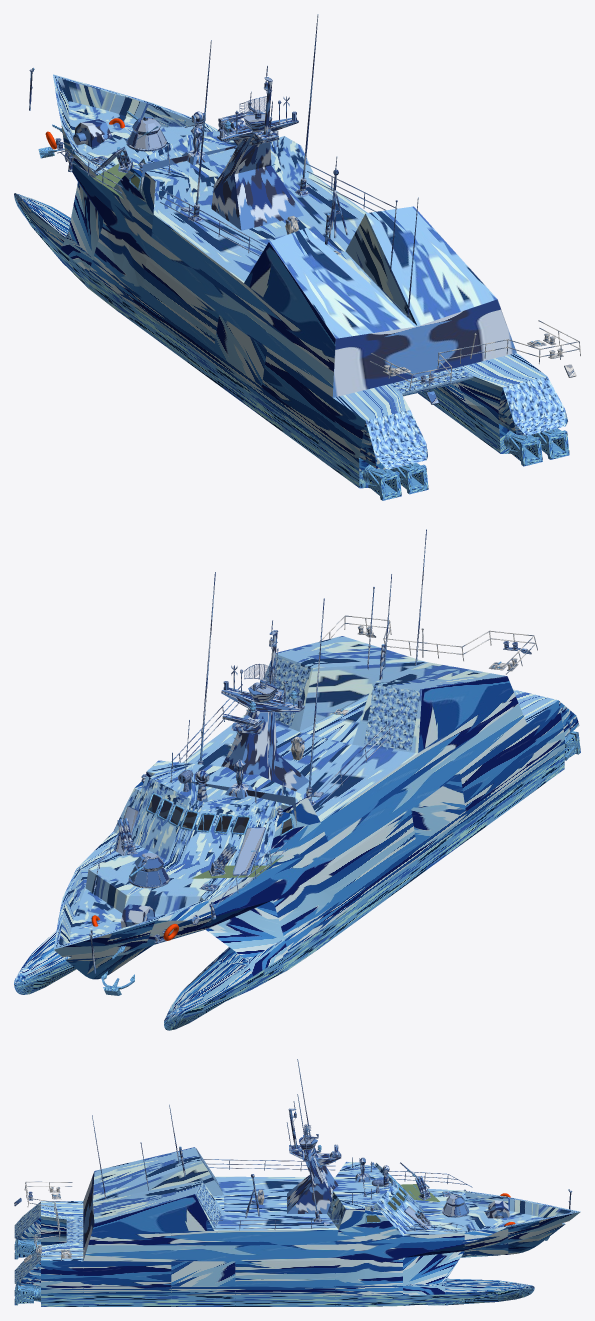
Rendered from type_22_missile_boat.fbx.
The picture shows the model from 3 angles, top to bottom: view 1: azimuth 30°, elevation 25°; view 2: azimuth 150°, elevation 25°; view 3: azimuth 270°, elevation 25°; orthographic projection. The views are drawn at different scales.
Visible parts, largest first — view 1: Object_47, Object_48, Object_50, Object_51, Object_42, Object_39, Object_17, Object_49, Object_29, Object_28, Object_35, Object_30 (+1 smaller); view 2: Object_48, Object_47, Object_51, Object_42, Object_17, Object_6, Object_35, Object_28, Object_29, Object_22, Object_49, Object_30 (+1 smaller); view 3: Object_49, Object_47, Object_51, Object_42, Object_17, Object_48, Object_30, Object_28, Object_39, Object_29, Object_35, Object_50 (+2 smaller).
Boxes of the visible parts, x1=… form: Object_47: x1=53, y1=74, x2=565, y2=469; Object_48: x1=14, y1=126, x2=434, y2=470; Object_50: x1=332, y1=299, x2=516, y2=397; Object_51: x1=14, y1=196, x2=526, y2=488; Object_42: x1=211, y1=111, x2=303, y2=230; Object_39: x1=363, y1=428, x2=569, y2=500; Object_17: x1=139, y1=14, x2=418, y2=317; Object_49: x1=426, y1=376, x2=567, y2=436; Object_29: x1=333, y1=250, x2=580, y2=389; Object_28: x1=55, y1=119, x2=438, y2=404; Object_35: x1=116, y1=116, x2=220, y2=172; Object_30: x1=29, y1=67, x2=397, y2=256; Object_48: x1=54, y1=676, x2=579, y2=1020; Object_47: x1=53, y1=636, x2=557, y2=959; Object_51: x1=14, y1=752, x2=564, y2=1030; Object_42: x1=221, y1=682, x2=309, y2=791; Object_17: x1=141, y1=529, x2=426, y2=817; Object_6: x1=150, y1=775, x2=296, y2=875; Object_35: x1=117, y1=818, x2=236, y2=888; Object_28: x1=93, y1=641, x2=531, y2=943; Object_29: x1=320, y1=615, x2=537, y2=715; Object_22: x1=148, y1=795, x2=292, y2=833; Object_49: x1=14, y1=669, x2=310, y2=984; Object_30: x1=89, y1=684, x2=406, y2=973; Object_49: x1=15, y1=1161, x2=580, y2=1295; Object_47: x1=14, y1=1147, x2=580, y2=1283; Object_51: x1=41, y1=1255, x2=534, y2=1306; Object_42: x1=287, y1=1135, x2=341, y2=1213; Object_17: x1=92, y1=1059, x2=389, y2=1218; Object_48: x1=15, y1=1195, x2=564, y2=1245; Object_30: x1=203, y1=1159, x2=572, y2=1230; Object_28: x1=14, y1=1171, x2=509, y2=1230; Object_39: x1=14, y1=1239, x2=40, y2=1305; Object_29: x1=24, y1=1181, x2=84, y2=1262; Object_35: x1=415, y1=1176, x2=469, y2=1228; Object_50: x1=83, y1=1172, x2=94, y2=1260.
Size of the model in its own units: 27934 by 37432 by 93612.
Materials: 12 (9 with a texture image).
